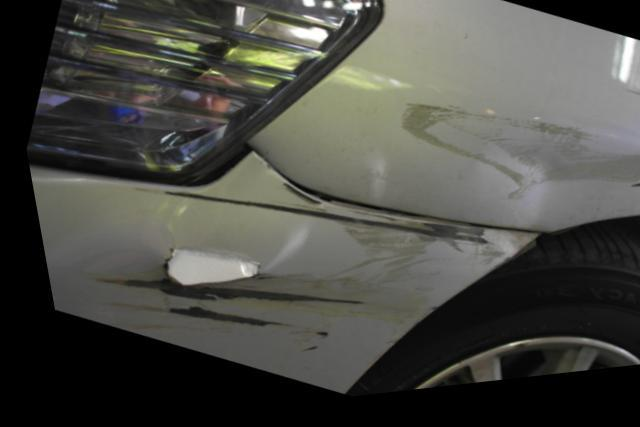crack: (151, 250, 251, 290)
dent: (476, 151, 640, 242)
scratch: (78, 182, 495, 356), (385, 109, 586, 178)
